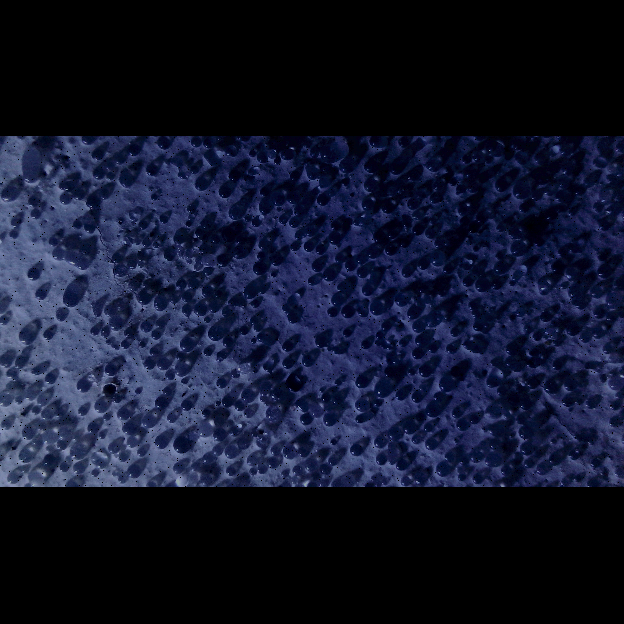GrassBeadSeg: (319, 144, 340, 164), (367, 301, 387, 316), (171, 439, 190, 454), (285, 375, 301, 392), (509, 242, 527, 257), (207, 326, 225, 341), (373, 383, 392, 397), (434, 462, 451, 477), (89, 454, 107, 468), (26, 470, 45, 483), (512, 184, 528, 199), (223, 445, 240, 459), (62, 294, 79, 308), (484, 454, 502, 467), (120, 423, 138, 436), (197, 423, 212, 438), (264, 407, 280, 421), (437, 378, 453, 392), (139, 415, 156, 428), (152, 436, 169, 449), (117, 175, 134, 188), (226, 207, 243, 220), (338, 160, 355, 173), (152, 298, 169, 311), (505, 359, 522, 372), (229, 247, 247, 259), (542, 381, 558, 394), (18, 331, 34, 344), (172, 364, 188, 377), (125, 465, 141, 478), (385, 428, 401, 441), (108, 317, 124, 330), (280, 446, 296, 459), (18, 449, 34, 462), (603, 295, 619, 308), (0, 189, 16, 202), (416, 365, 433, 377), (339, 306, 356, 318), (353, 400, 370, 412), (135, 292, 152, 304), (485, 406, 502, 418), (563, 268, 580, 280), (257, 332, 274, 344), (322, 414, 337, 427), (75, 380, 91, 392), (353, 376, 369, 388), (192, 179, 208, 191), (102, 365, 118, 377), (424, 406, 440, 418), (519, 444, 535, 456), (73, 258, 89, 270), (362, 180, 378, 192), (85, 197, 101, 209), (566, 287, 582, 299), (392, 295, 409, 306), (586, 287, 603, 298), (192, 303, 206, 316), (252, 262, 266, 275), (25, 269, 40, 281), (93, 401, 108, 413), (153, 397, 168, 409), (111, 265, 126, 277), (216, 187, 231, 199), (360, 285, 375, 297), (242, 286, 257, 298), (239, 390, 254, 402), (308, 406, 323, 418), (562, 380, 578, 391), (504, 344, 520, 355), (595, 267, 611, 278), (533, 464, 549, 475), (329, 295, 345, 306), (388, 163, 404, 174), (413, 337, 430, 347), (486, 142, 499, 155), (327, 232, 340, 245), (468, 450, 481, 463), (402, 421, 415, 434), (179, 338, 192, 351), (212, 429, 225, 442), (298, 414, 312, 426), (155, 358, 169, 370), (295, 398, 307, 412), (299, 356, 314, 367), (410, 322, 425, 333), (518, 428, 533, 439), (405, 309, 420, 320), (590, 327, 605, 338), (77, 244, 92, 255), (270, 194, 285, 205), (270, 390, 285, 401), (115, 410, 131, 420), (564, 326, 580, 336), (53, 310, 66, 322), (13, 357, 26, 369), (426, 159, 438, 172), (72, 462, 85, 474), (493, 261, 505, 274), (405, 199, 419, 210), (51, 250, 65, 261), (394, 459, 408, 470), (214, 256, 228, 267), (0, 355, 11, 369), (279, 342, 294, 352), (409, 350, 424, 360), (423, 440, 438, 450), (518, 400, 533, 410), (107, 444, 122, 454), (533, 153, 545, 165), (494, 180, 506, 192), (406, 169, 418, 181), (363, 160, 375, 172), (368, 136, 380, 148), (380, 201, 392, 213), (361, 199, 373, 211), (318, 176, 330, 188), (315, 194, 327, 206), (280, 149, 292, 161), (322, 269, 334, 281), (431, 254, 443, 266), (474, 280, 486, 292), (455, 420, 468, 431), (550, 360, 563, 371), (209, 446, 222, 457), (199, 476, 212, 487), (238, 363, 251, 374), (178, 401, 192, 411), (460, 277, 474, 287), (281, 359, 295, 369), (223, 467, 237, 477), (398, 477, 412, 487), (312, 245, 326, 255), (286, 194, 300, 204), (244, 456, 258, 466), (601, 344, 615, 354), (431, 392, 445, 402), (449, 409, 463, 419), (456, 261, 470, 271), (383, 367, 397, 377), (506, 230, 521, 239), (214, 378, 226, 389), (305, 168, 316, 180), (203, 150, 214, 162), (228, 169, 239, 181), (158, 139, 170, 150), (126, 146, 138, 157), (374, 454, 386, 465), (349, 445, 361, 456), (43, 374, 56, 384), (33, 290, 46, 300), (470, 474, 483, 484), (393, 391, 406, 401), (172, 235, 185, 245), (257, 240, 270, 250), (318, 465, 331, 475), (110, 254, 123, 264), (200, 287, 213, 297), (292, 206, 305, 216), (126, 281, 139, 291), (220, 232, 233, 242), (460, 340, 473, 350), (444, 345, 458, 354), (220, 398, 234, 407), (265, 459, 279, 468), (0, 396, 11, 407), (92, 169, 103, 180), (91, 150, 102, 161), (42, 433, 53, 444), (374, 437, 385, 448), (221, 337, 232, 348), (142, 360, 154, 370), (467, 224, 479, 234), (162, 251, 174, 261), (0, 420, 12, 430), (327, 456, 339, 466), (179, 306, 191, 316), (174, 280, 186, 290), (72, 190, 84, 200), (58, 194, 70, 204), (23, 173, 35, 183), (607, 379, 619, 389), (548, 455, 560, 465), (448, 328, 461, 337), (28, 210, 41, 219), (440, 265, 453, 274), (588, 459, 601, 468), (125, 439, 138, 448), (171, 464, 184, 473), (268, 447, 281, 456), (433, 239, 446, 248), (331, 395, 344, 404), (153, 320, 166, 329), (80, 136, 93, 145), (215, 352, 226, 362), (190, 137, 200, 148), (145, 166, 156, 176), (40, 409, 51, 419), (87, 423, 98, 433), (7, 473, 18, 483), (21, 429, 32, 439), (207, 302, 217, 313), (180, 291, 190, 302), (258, 204, 269, 214), (304, 227, 315, 237), (373, 233, 384, 243), (507, 395, 517, 406), (314, 337, 325, 347), (41, 331, 53, 340), (326, 308, 338, 317), (517, 204, 529, 213), (409, 393, 421, 402), (297, 448, 309, 457), (499, 466, 511, 475), (115, 453, 127, 462), (200, 409, 212, 418), (83, 225, 95, 234), (495, 387, 507, 396), (163, 372, 175, 381), (55, 441, 67, 450), (27, 198, 39, 207), (354, 415, 366, 424), (188, 463, 200, 472), (194, 230, 206, 239), (164, 415, 177, 423), (577, 335, 590, 343), (29, 367, 42, 375), (514, 417, 527, 425), (96, 431, 106, 441), (71, 449, 81, 459), (288, 218, 298, 228), (271, 256, 281, 266), (288, 314, 298, 324), (302, 242, 312, 252), (311, 261, 321, 271), (344, 261, 354, 271), (411, 226, 421, 236), (417, 259, 427, 269), (401, 268, 411, 278), (76, 407, 87, 416), (135, 448, 146, 457), (47, 238, 58, 247), (359, 341, 370, 350), (233, 403, 244, 412), (329, 222, 340, 231), (366, 249, 377, 258), (585, 480, 599, 487), (135, 222, 147, 230), (161, 388, 173, 396), (425, 345, 437, 353), (187, 280, 199, 288), (474, 215, 486, 223), (233, 236, 245, 244), (119, 341, 129, 350), (373, 331, 383, 340), (126, 260, 136, 269), (614, 143, 623, 153), (614, 468, 623, 478), (148, 347, 158, 356), (150, 330, 160, 339), (220, 308, 230, 317), (357, 269, 367, 278), (384, 246, 394, 255), (242, 410, 253, 418), (371, 399, 382, 407), (556, 249, 567, 257), (424, 230, 435, 238), (570, 475, 581, 483), (428, 194, 437, 203), (397, 138, 406, 147), (308, 148, 317, 157), (289, 172, 298, 181), (257, 154, 266, 163), (224, 146, 233, 155), (203, 139, 212, 148), (189, 165, 198, 174), (114, 155, 123, 164), (123, 329, 132, 338), (140, 323, 149, 332), (472, 322, 481, 331), (523, 459, 532, 468), (585, 400, 594, 409), (411, 435, 420, 444), (88, 328, 98, 336), (320, 394, 330, 402), (116, 476, 126, 484), (140, 239, 150, 247), (186, 205, 196, 213), (544, 212, 554, 220), (7, 232, 18, 239), (201, 349, 212, 356), (341, 330, 352, 337), (71, 222, 82, 229), (607, 403, 618, 410), (495, 225, 506, 232), (9, 220, 20, 227), (267, 150, 276, 158), (7, 370, 15, 379), (256, 252, 265, 260), (278, 216, 287, 224), (293, 232, 302, 240), (250, 300, 259, 308), (398, 239, 407, 247), (386, 230, 395, 238), (534, 238, 542, 247), (575, 301, 583, 310), (568, 450, 576, 459), (559, 477, 568, 485), (527, 380, 535, 389), (486, 379, 494, 388), (422, 424, 431, 432), (229, 428, 238, 436), (398, 339, 407, 347), (380, 323, 389, 331), (306, 278, 316, 285), (88, 470, 98, 477), (111, 396, 121, 403), (333, 379, 343, 386), (0, 317, 8, 325), (600, 196, 608, 204), (614, 171, 622, 179), (559, 148, 567, 156), (557, 180, 565, 188), (543, 188, 551, 196), (561, 167, 569, 175), (482, 157, 490, 165), (513, 143, 521, 151), (467, 184, 475, 192), (466, 199, 474, 207), (455, 185, 463, 193), (31, 407, 39, 415), (43, 458, 51, 466), (20, 465, 28, 473), (58, 464, 66, 472), (251, 219, 259, 227), (259, 188, 267, 196), (334, 254, 342, 262), (336, 284, 344, 292), (355, 256, 363, 264), (531, 333, 539, 341), (540, 313, 548, 321), (491, 281, 499, 289), (551, 264, 559, 272), (539, 283, 547, 291), (592, 310, 600, 318), (562, 398, 570, 406), (489, 441, 497, 449), (487, 426, 495, 434), (458, 457, 466, 465), (444, 453, 452, 461), (469, 415, 477, 423), (525, 359, 533, 367), (415, 413, 423, 421), (239, 327, 247, 335), (290, 243, 298, 251), (406, 369, 415, 376), (230, 371, 239, 378), (358, 310, 367, 317), (198, 246, 207, 253), (209, 236, 218, 243), (608, 419, 617, 426), (252, 325, 262, 331), (158, 218, 168, 224), (279, 471, 287, 478), (137, 261, 145, 268), (574, 188, 582, 195), (606, 177, 614, 184), (568, 209, 576, 216), (530, 193, 538, 200), (591, 160, 599, 167), (582, 179, 590, 186), (592, 204, 600, 211), (605, 208, 613, 215), (598, 223, 606, 230), (554, 194, 562, 201), (457, 208, 465, 215), (100, 192, 108, 199), (457, 474, 464, 482), (101, 414, 110, 420), (149, 195, 158, 201), (203, 269, 212, 275), (93, 310, 100, 317), (106, 173, 113, 180), (104, 309, 111, 316), (116, 302, 123, 309), (169, 296, 176, 303), (227, 299, 234, 306), (192, 264, 199, 271), (258, 288, 265, 295), (281, 305, 288, 312), (249, 318, 256, 325), (175, 353, 182, 360), (329, 439, 337, 445), (473, 156, 480, 162), (415, 192, 422, 198), (248, 151, 255, 157), (203, 317, 210, 323), (214, 292, 221, 298), (204, 259, 211, 265), (471, 246, 478, 252), (305, 465, 312, 471), (317, 481, 324, 487), (289, 478, 296, 484), (248, 469, 255, 475), (257, 467, 264, 473), (202, 457, 209, 463), (331, 347, 337, 354), (449, 180, 455, 186), (461, 157, 467, 163), (470, 150, 476, 156), (433, 184, 439, 190), (428, 218, 434, 224), (341, 179, 347, 185), (320, 166, 326, 172), (303, 142, 309, 148), (273, 159, 279, 165), (177, 173, 183, 179), (32, 439, 38, 445), (25, 395, 31, 401), (105, 340, 111, 346), (138, 342, 144, 348), (259, 396, 265, 402), (14, 399, 21, 404), (37, 400, 44, 405), (291, 469, 298, 474), (396, 188, 402, 193), (411, 213, 417, 218), (352, 220, 358, 225), (64, 186, 70, 191), (59, 184, 64, 190), (55, 412, 61, 417), (36, 426, 42, 431), (46, 447, 52, 452), (134, 389, 140, 394), (152, 243, 158, 248), (184, 221, 190, 226), (237, 223, 243, 228), (402, 221, 407, 227), (443, 315, 449, 320), (467, 304, 473, 309), (471, 313, 477, 318), (549, 334, 555, 339), (514, 311, 520, 316), (477, 272, 483, 277), (560, 284, 566, 289), (605, 316, 611, 321), (494, 254, 500, 259), (607, 357, 613, 362), (607, 372, 613, 377), (614, 394, 620, 399), (573, 399, 579, 404), (586, 439, 592, 444), (503, 414, 509, 419), (488, 361, 494, 366), (527, 351, 533, 356), (387, 459, 393, 464), (180, 379, 186, 384), (138, 256, 144, 261), (130, 217, 136, 222), (122, 238, 128, 243), (555, 208, 560, 213), (465, 173, 470, 178), (105, 165, 110, 170), (113, 345, 118, 350), (186, 259, 191, 264), (185, 253, 190, 258), (244, 217, 249, 222), (418, 288, 423, 293), (438, 292, 443, 297), (425, 305, 430, 310), (436, 317, 441, 322), (428, 292, 433, 297), (524, 326, 529, 331), (555, 327, 560, 332), (544, 329, 549, 334), (483, 323, 488, 328), (508, 282, 513, 287), (552, 341, 557, 346), (573, 434, 578, 439), (549, 438, 554, 443), (508, 433, 513, 438), (481, 427, 486, 432), (515, 387, 520, 392), (381, 480, 386, 485), (416, 479, 421, 484), (370, 477, 375, 482), (250, 339, 255, 344), (134, 239, 139, 244), (275, 207, 280, 212), (64, 458, 70, 462), (316, 174, 321, 178), (101, 333, 106, 337), (101, 329, 106, 333), (270, 273, 275, 277), (255, 443, 260, 447), (263, 431, 268, 435), (328, 192, 332, 196), (72, 437, 76, 441), (568, 247, 572, 251), (250, 433, 254, 437), (259, 437, 263, 441), (255, 435, 259, 439), (318, 388, 322, 392), (326, 347, 330, 351), (252, 369, 256, 373), (265, 367, 269, 371), (264, 402, 268, 406), (260, 392, 264, 396), (268, 386, 272, 390), (215, 401, 219, 405), (419, 386, 423, 390), (386, 346, 390, 350), (392, 359, 396, 363), (398, 356, 402, 360), (381, 345, 385, 349), (375, 341, 379, 345), (349, 194, 353, 197), (359, 222, 362, 226), (60, 436, 64, 439), (179, 256, 183, 259), (285, 312, 289, 315), (487, 310, 490, 314), (511, 277, 515, 280), (142, 284, 146, 287), (90, 303, 93, 307), (387, 339, 390, 343), (243, 178, 246, 181), (185, 174, 188, 177), (128, 142, 131, 145), (199, 261, 202, 264), (176, 246, 179, 249), (177, 249, 180, 252), (187, 217, 190, 220), (202, 225, 205, 228), (495, 317, 498, 320), (508, 318, 511, 321), (525, 312, 528, 315), (542, 336, 545, 339), (550, 323, 553, 326), (124, 431, 128, 433)
